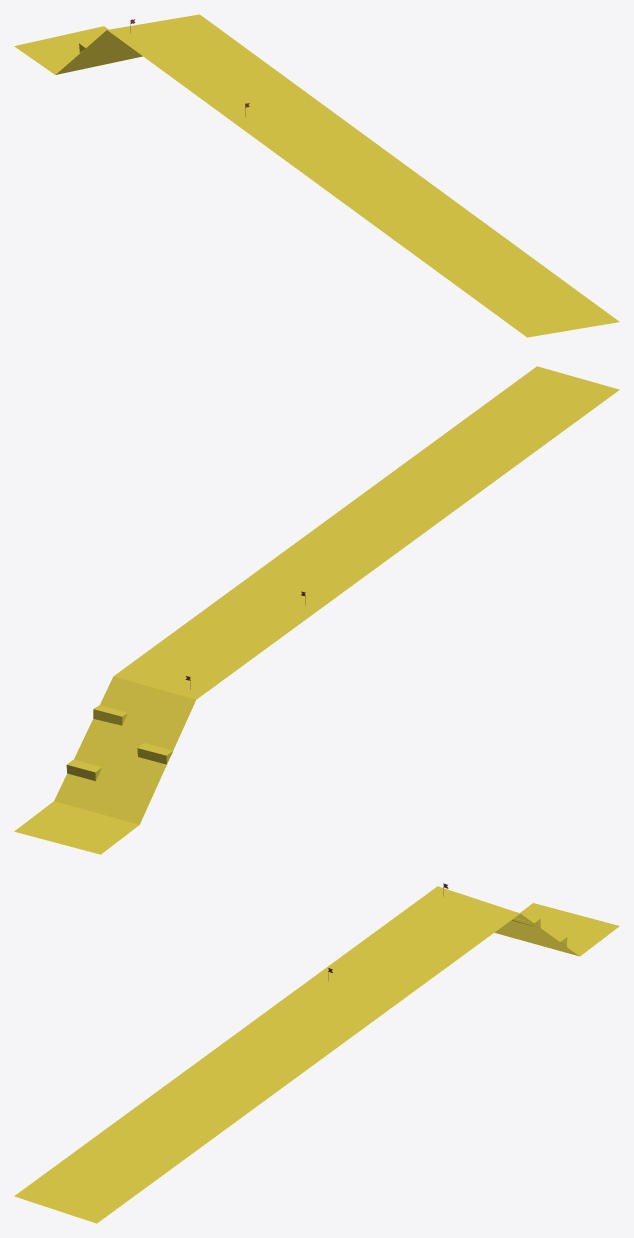
The model's file is Level4World.glb.
The picture shows the model from 3 angles, top to bottom: view 1: azimuth 30°, elevation 25°; view 2: azimuth 150°, elevation 25°; view 3: azimuth 330°, elevation 25°; orthographic projection.
Visible parts, largest first — view 1: Floor; view 2: Floor; view 3: Floor.
Part boxes in pixels (x1,y1,x2,y2): Floor: [14, 14, 619, 337]; Floor: [14, 366, 619, 854]; Floor: [14, 886, 619, 1223].
Bounding box in the file's own units: 37.55 × 38.99 × 375.
